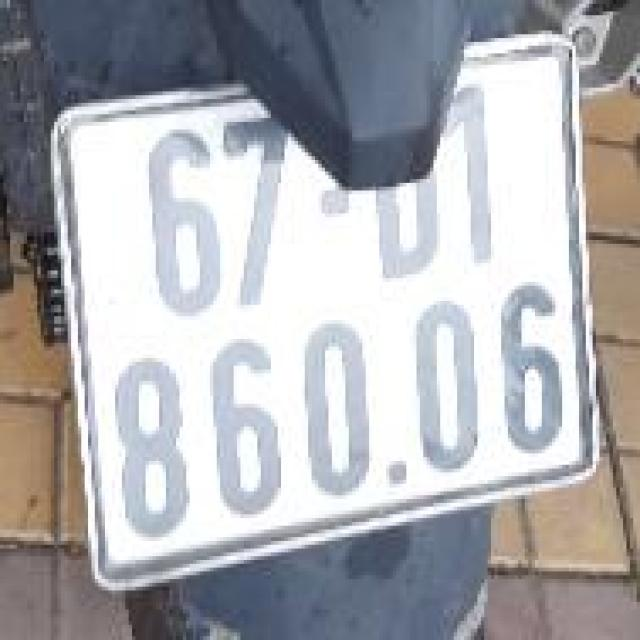0: (293, 324, 384, 499), (403, 290, 488, 476)
1: (442, 70, 510, 272)
6: (130, 118, 228, 324), (488, 276, 582, 467), (196, 337, 288, 528)
7: (222, 102, 306, 328)
8: (103, 350, 198, 545)
D: (350, 84, 442, 282)
